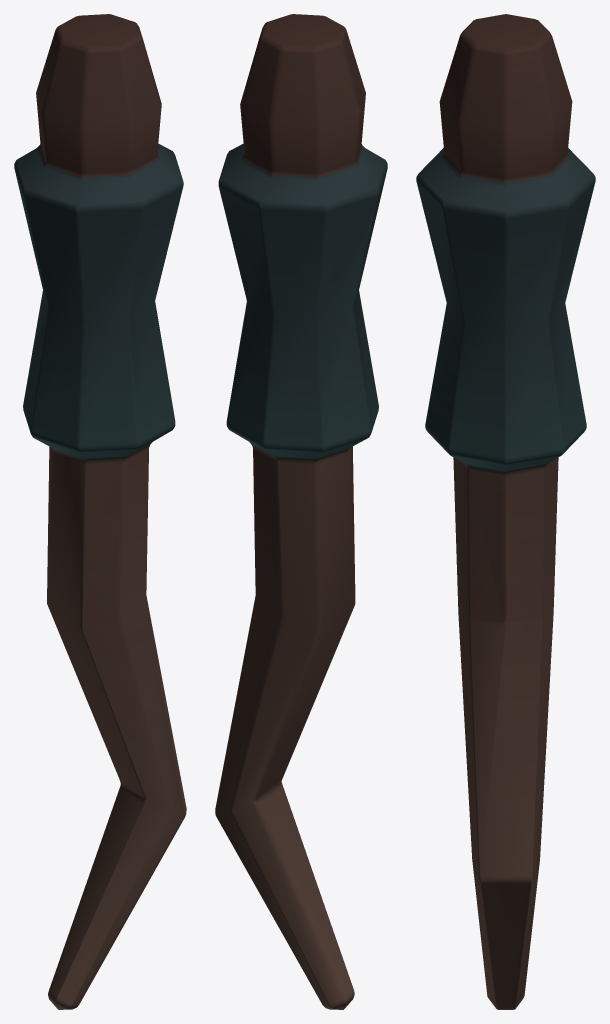
Rendered from wand_2.glb.
3 views of the same model, side by side, from view 1: azimuth 30°, elevation 25°; view 2: azimuth 150°, elevation 25°; view 3: azimuth 270°, elevation 25° (orthographic). The views are drawn at different scales.
Visible parts, largest first — view 1: wand_2; view 2: wand_2; view 3: wand_2.
Boxes of the visible parts, x1,y1,x2,y2 form: wand_2: (14, 14, 186, 1009); wand_2: (215, 14, 387, 1009); wand_2: (416, 14, 595, 1009).
Bounding box in the file's own units: 0.0653 × 0.4 × 0.0653.
1 material, 1 textured.
